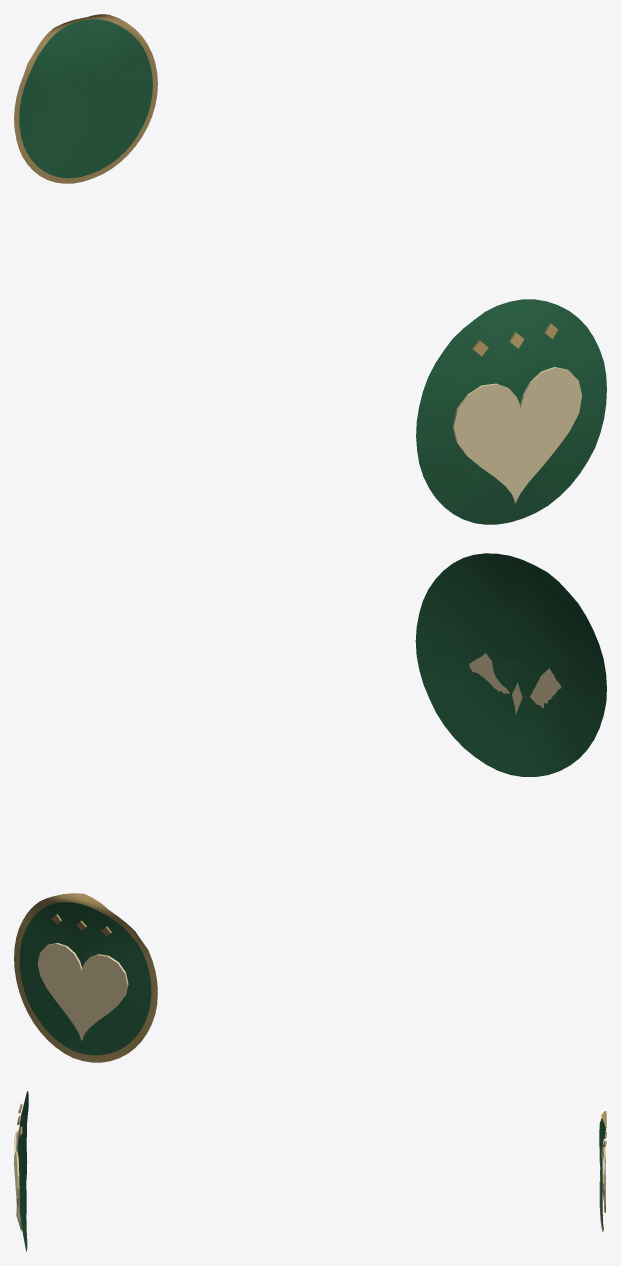
Rendered from elixir_vigour_badge.glb.
3 renders of one model, top to bottom at view 1: azimuth 30°, elevation 25°; view 2: azimuth 150°, elevation 25°; view 3: azimuth 270°, elevation 25°, orthographic. The views are drawn at different scales.
Parts seen in each view (by area): view 1: elixir_vigour badge; view 2: elixir_vigour badge; view 3: elixir_vigour badge.
Part boxes in pixels (<box>): elixir_vigour badge: <box>14,14,606,524</box>; elixir_vigour badge: <box>14,553,606,1062</box>; elixir_vigour badge: <box>14,1091,606,1251</box>.
Bounding box in the file's own units: 0.132 × 0.1452 × 0.5267.
